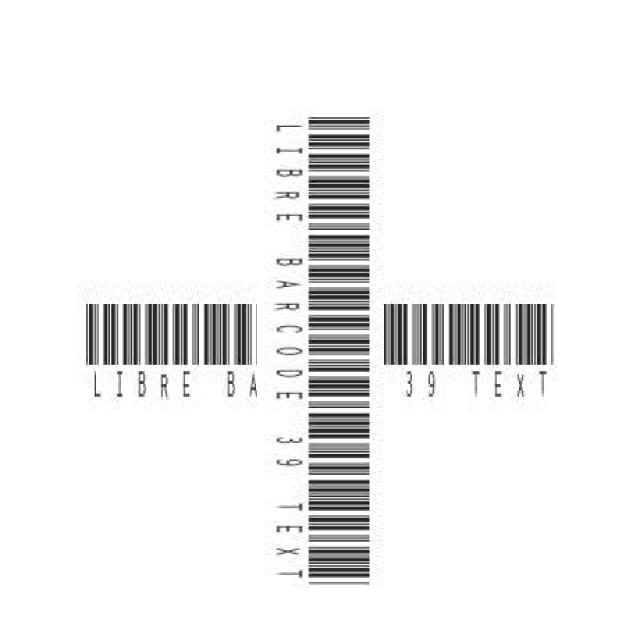Barkod: (169, 200, 473, 504)
